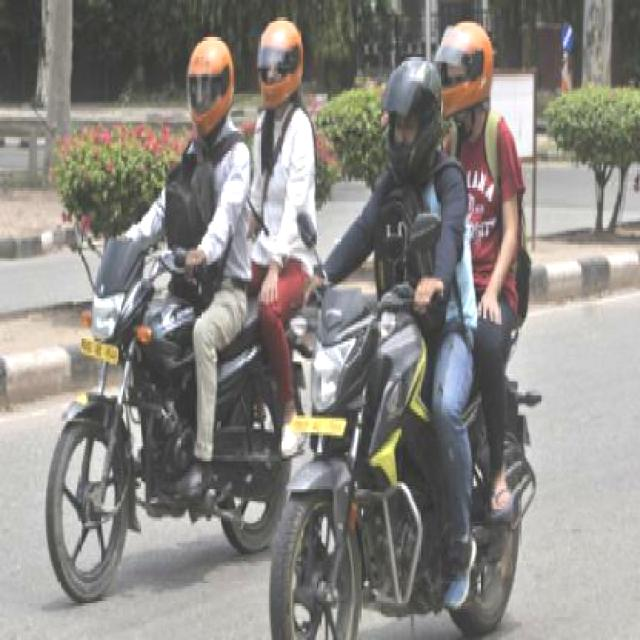With Helmet: (377, 46, 445, 180), (181, 26, 241, 152), (434, 13, 498, 116), (259, 12, 306, 110)
